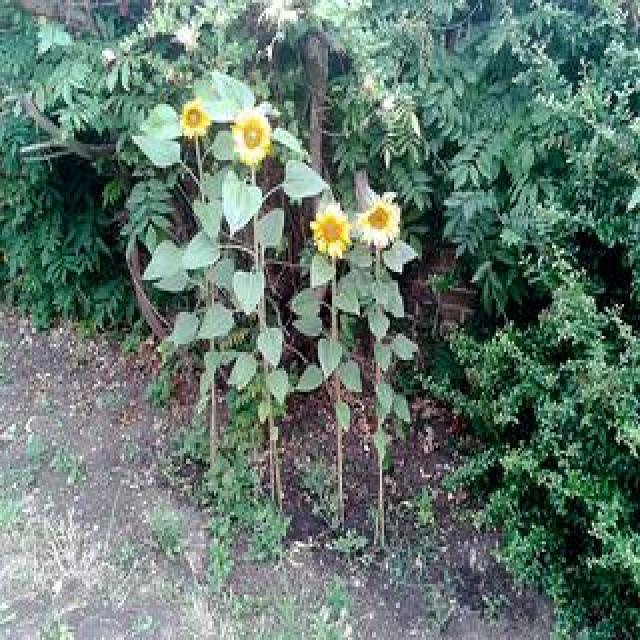sunflower: (233, 104, 271, 163), (306, 200, 348, 253), (361, 192, 401, 243), (175, 100, 207, 135)
